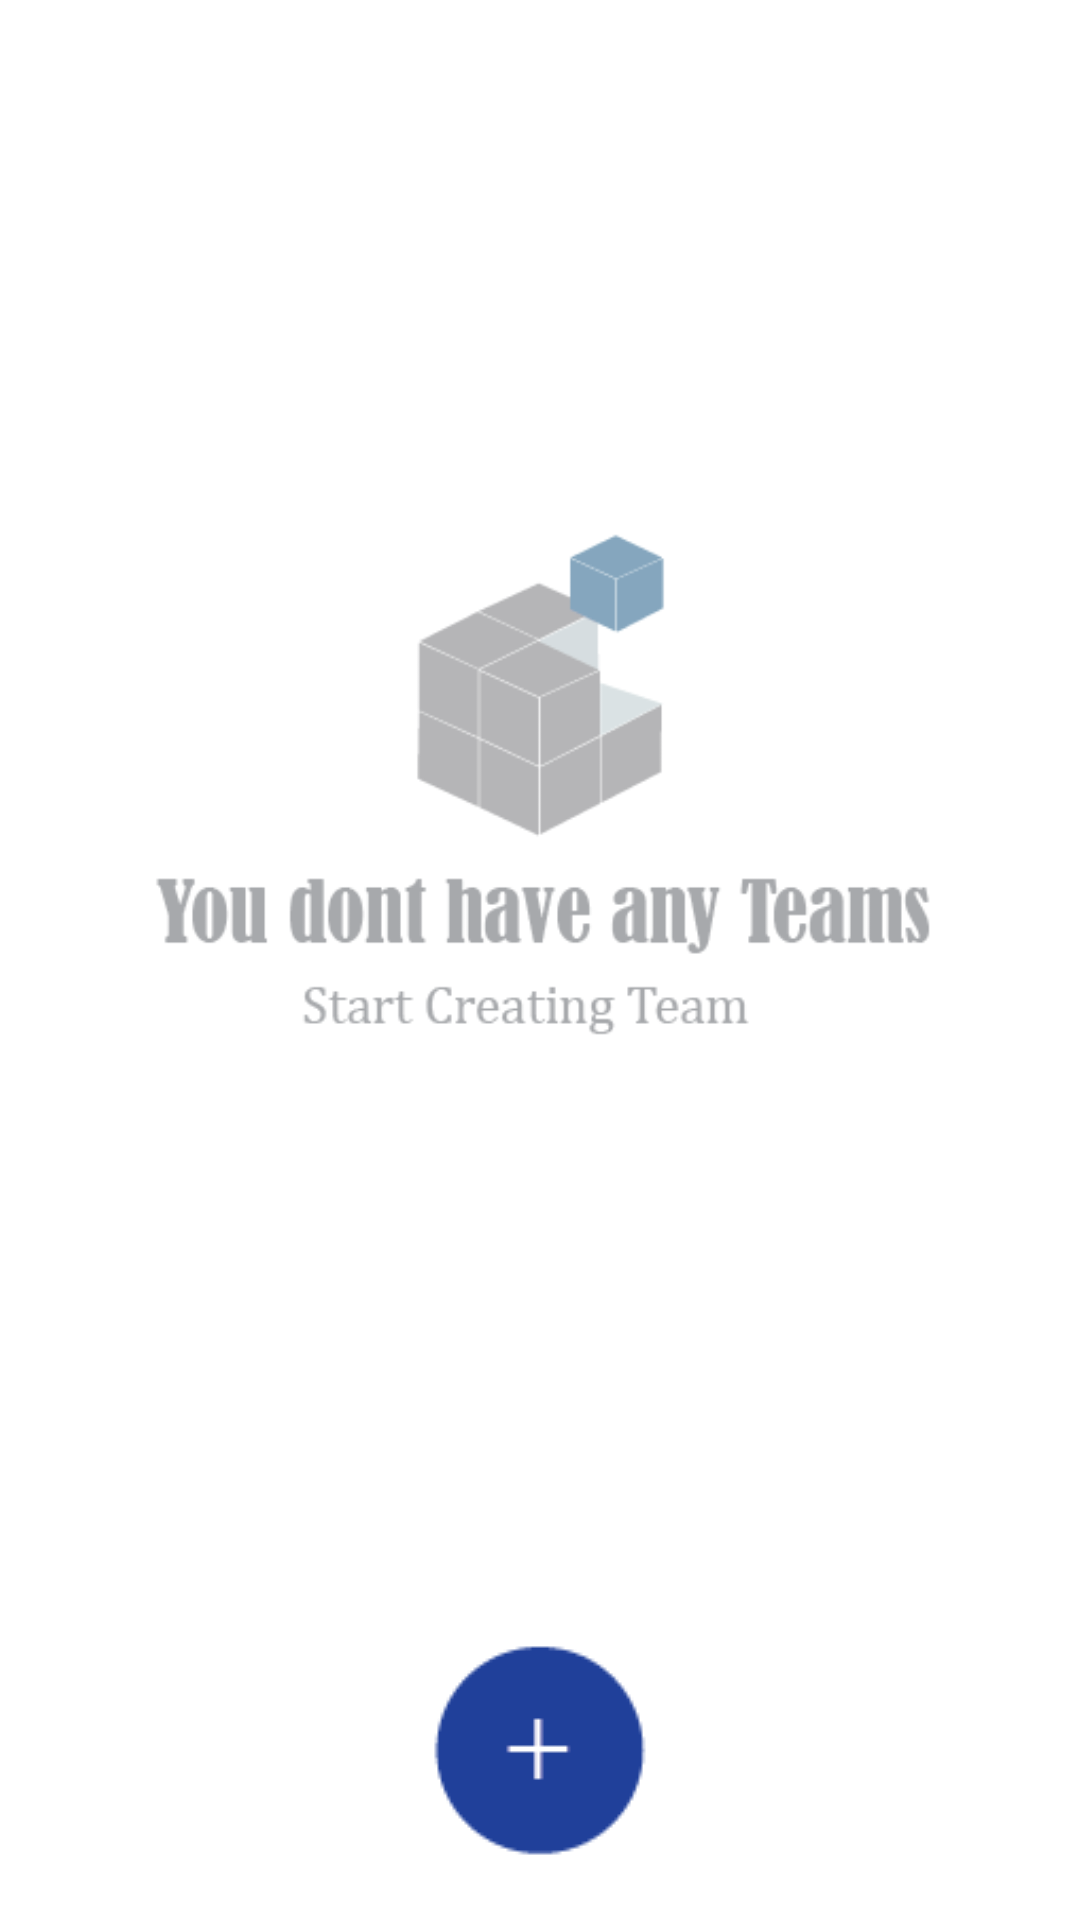

Where to tap for icons on this 1080px×1920px app screen, as [x,y]:
gotocreateteam: [540,1750]
